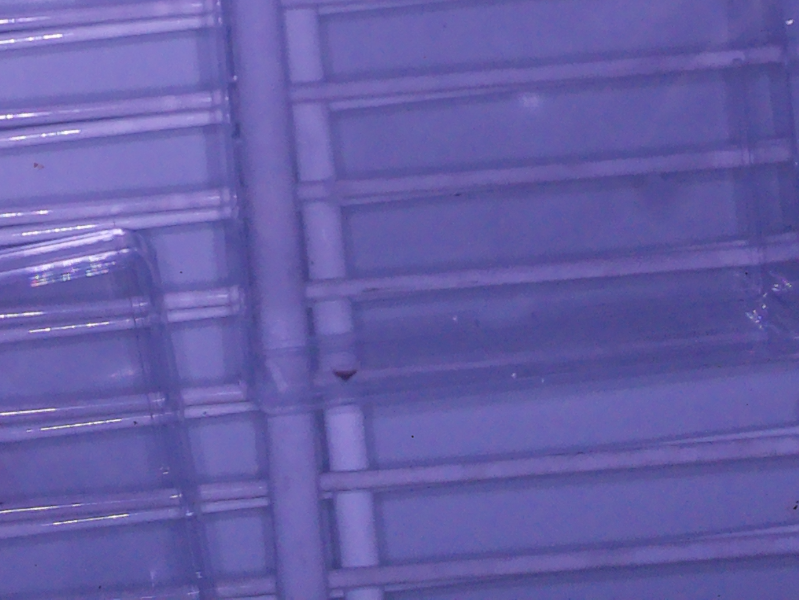plate: (211, 1, 799, 419), (1, 225, 223, 600)
